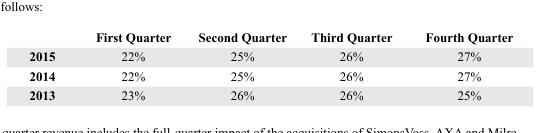table: (28, 29, 512, 102)
table column: (183, 29, 298, 102), (298, 29, 408, 102), (74, 29, 183, 102), (408, 29, 512, 102), (28, 29, 74, 102)
table column header: (28, 29, 512, 46)
table row: (28, 65, 512, 85), (28, 46, 512, 65), (28, 29, 512, 46), (28, 85, 512, 102)
